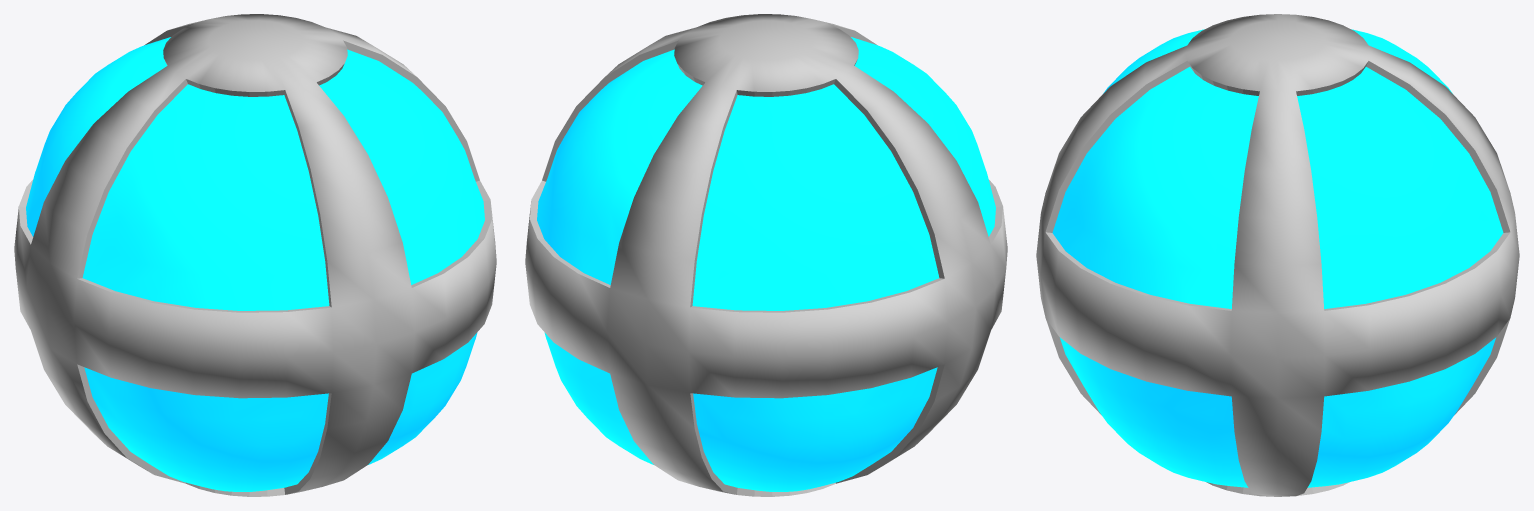
File: BasicBall.fbx
The picture shows the model from 3 angles, left to right: view 1: azimuth 30°, elevation 25°; view 2: azimuth 150°, elevation 25°; view 3: azimuth 270°, elevation 25°; orthographic projection.
Parts seen in each view (by area): view 1: Sphere.001, Sphere.002; view 2: Sphere.001, Sphere.002; view 3: Sphere.002, Sphere.001.
Boxes of the visible parts, <box> form: Sphere.001: <box>14,14,496,496</box>; Sphere.002: <box>26,37,484,491</box>; Sphere.001: <box>525,14,1007,496</box>; Sphere.002: <box>537,37,995,491</box>; Sphere.002: <box>1052,29,1503,487</box>; Sphere.001: <box>1036,14,1519,496</box>.
Bounding box in the file's own units: 100 × 100 × 100.
